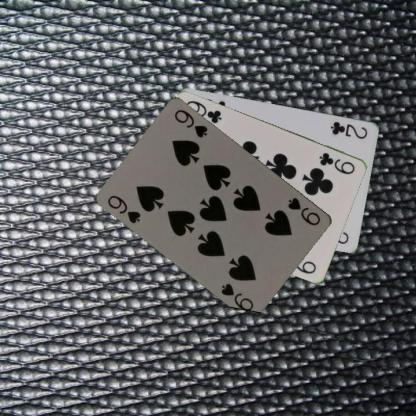2c: (328, 118, 369, 140)
9c: (316, 150, 356, 176)
9s: (105, 192, 143, 226), (286, 194, 322, 227)
